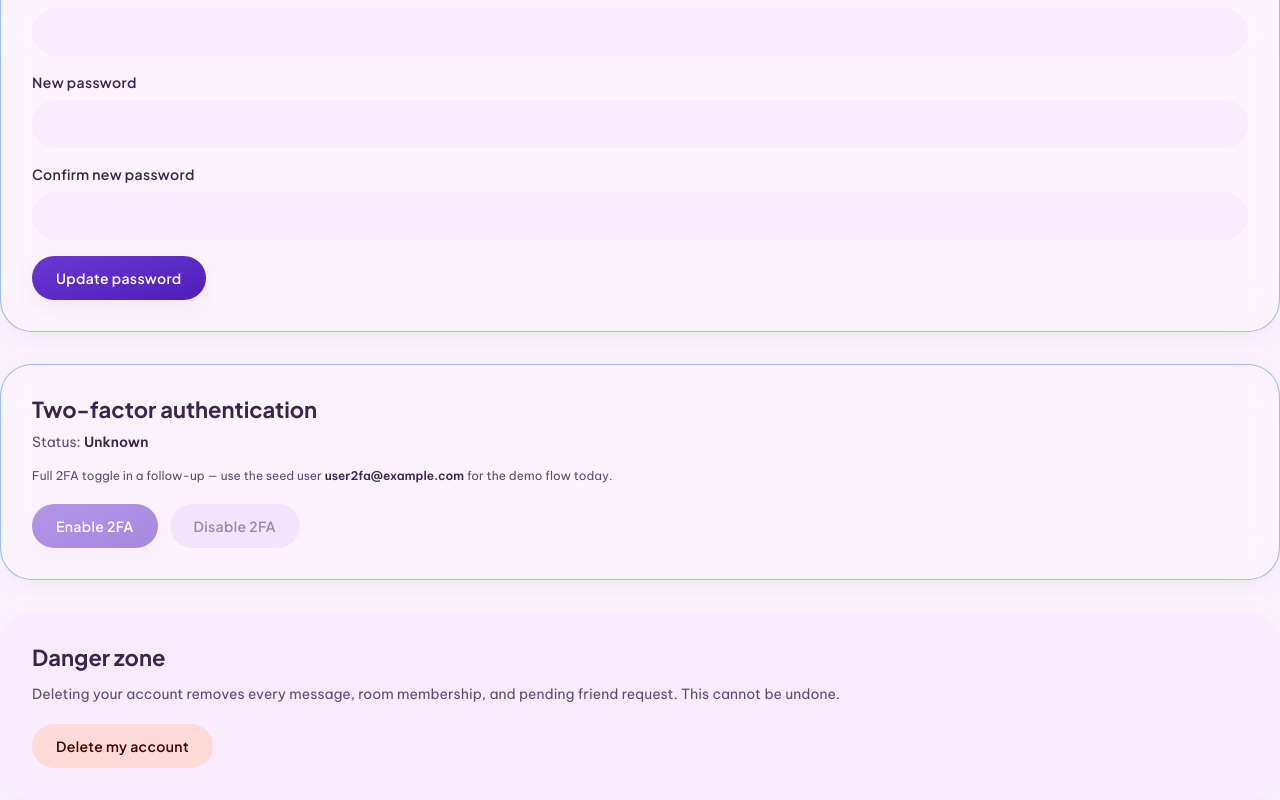
Scenario: <SettingsRoute /> (/settings) › Danger zone + delete dialog › opens the confirm dialog when "Delete my account" is clicked
(page scrolled)
Click the button with test id "settings-delete-open" at [122, 746], box [32,724,213,768]
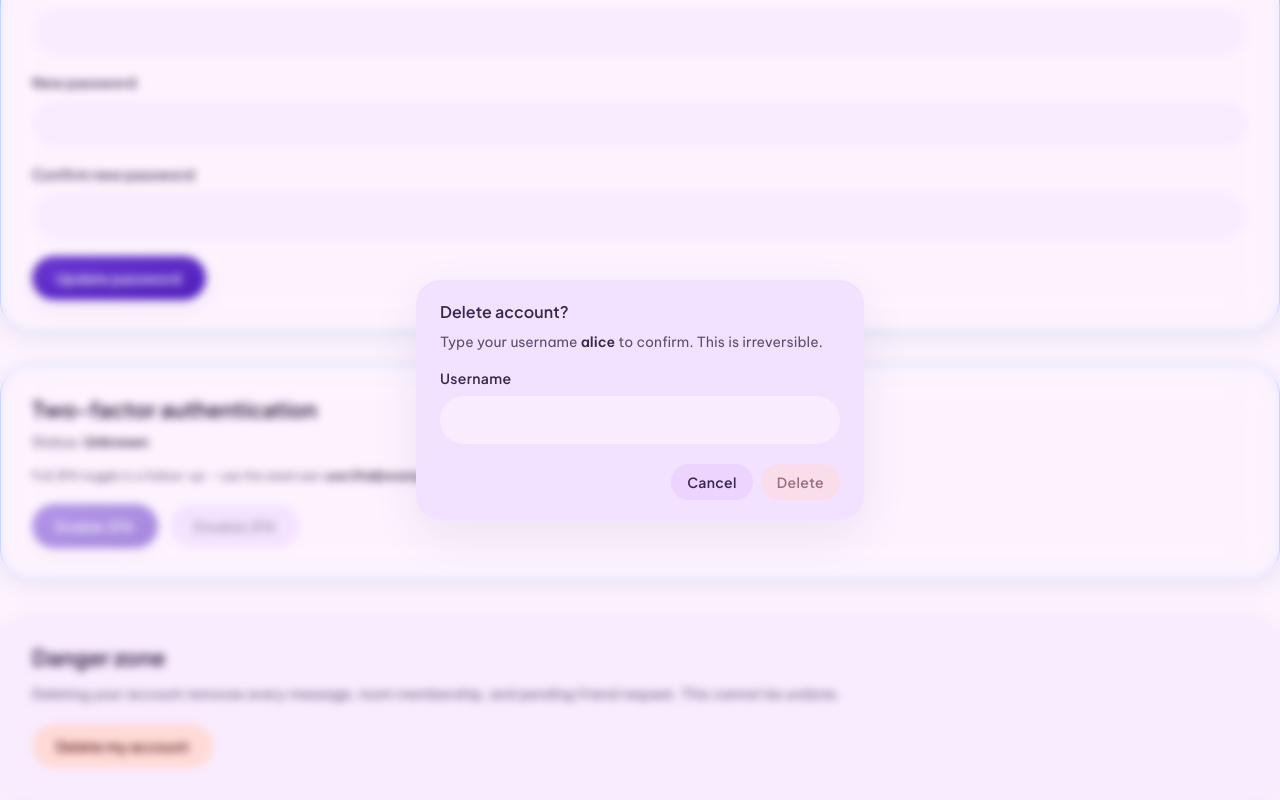
Check: the dialog with test id "settings-delete-dialog" is shown, box [416,280,864,520]
